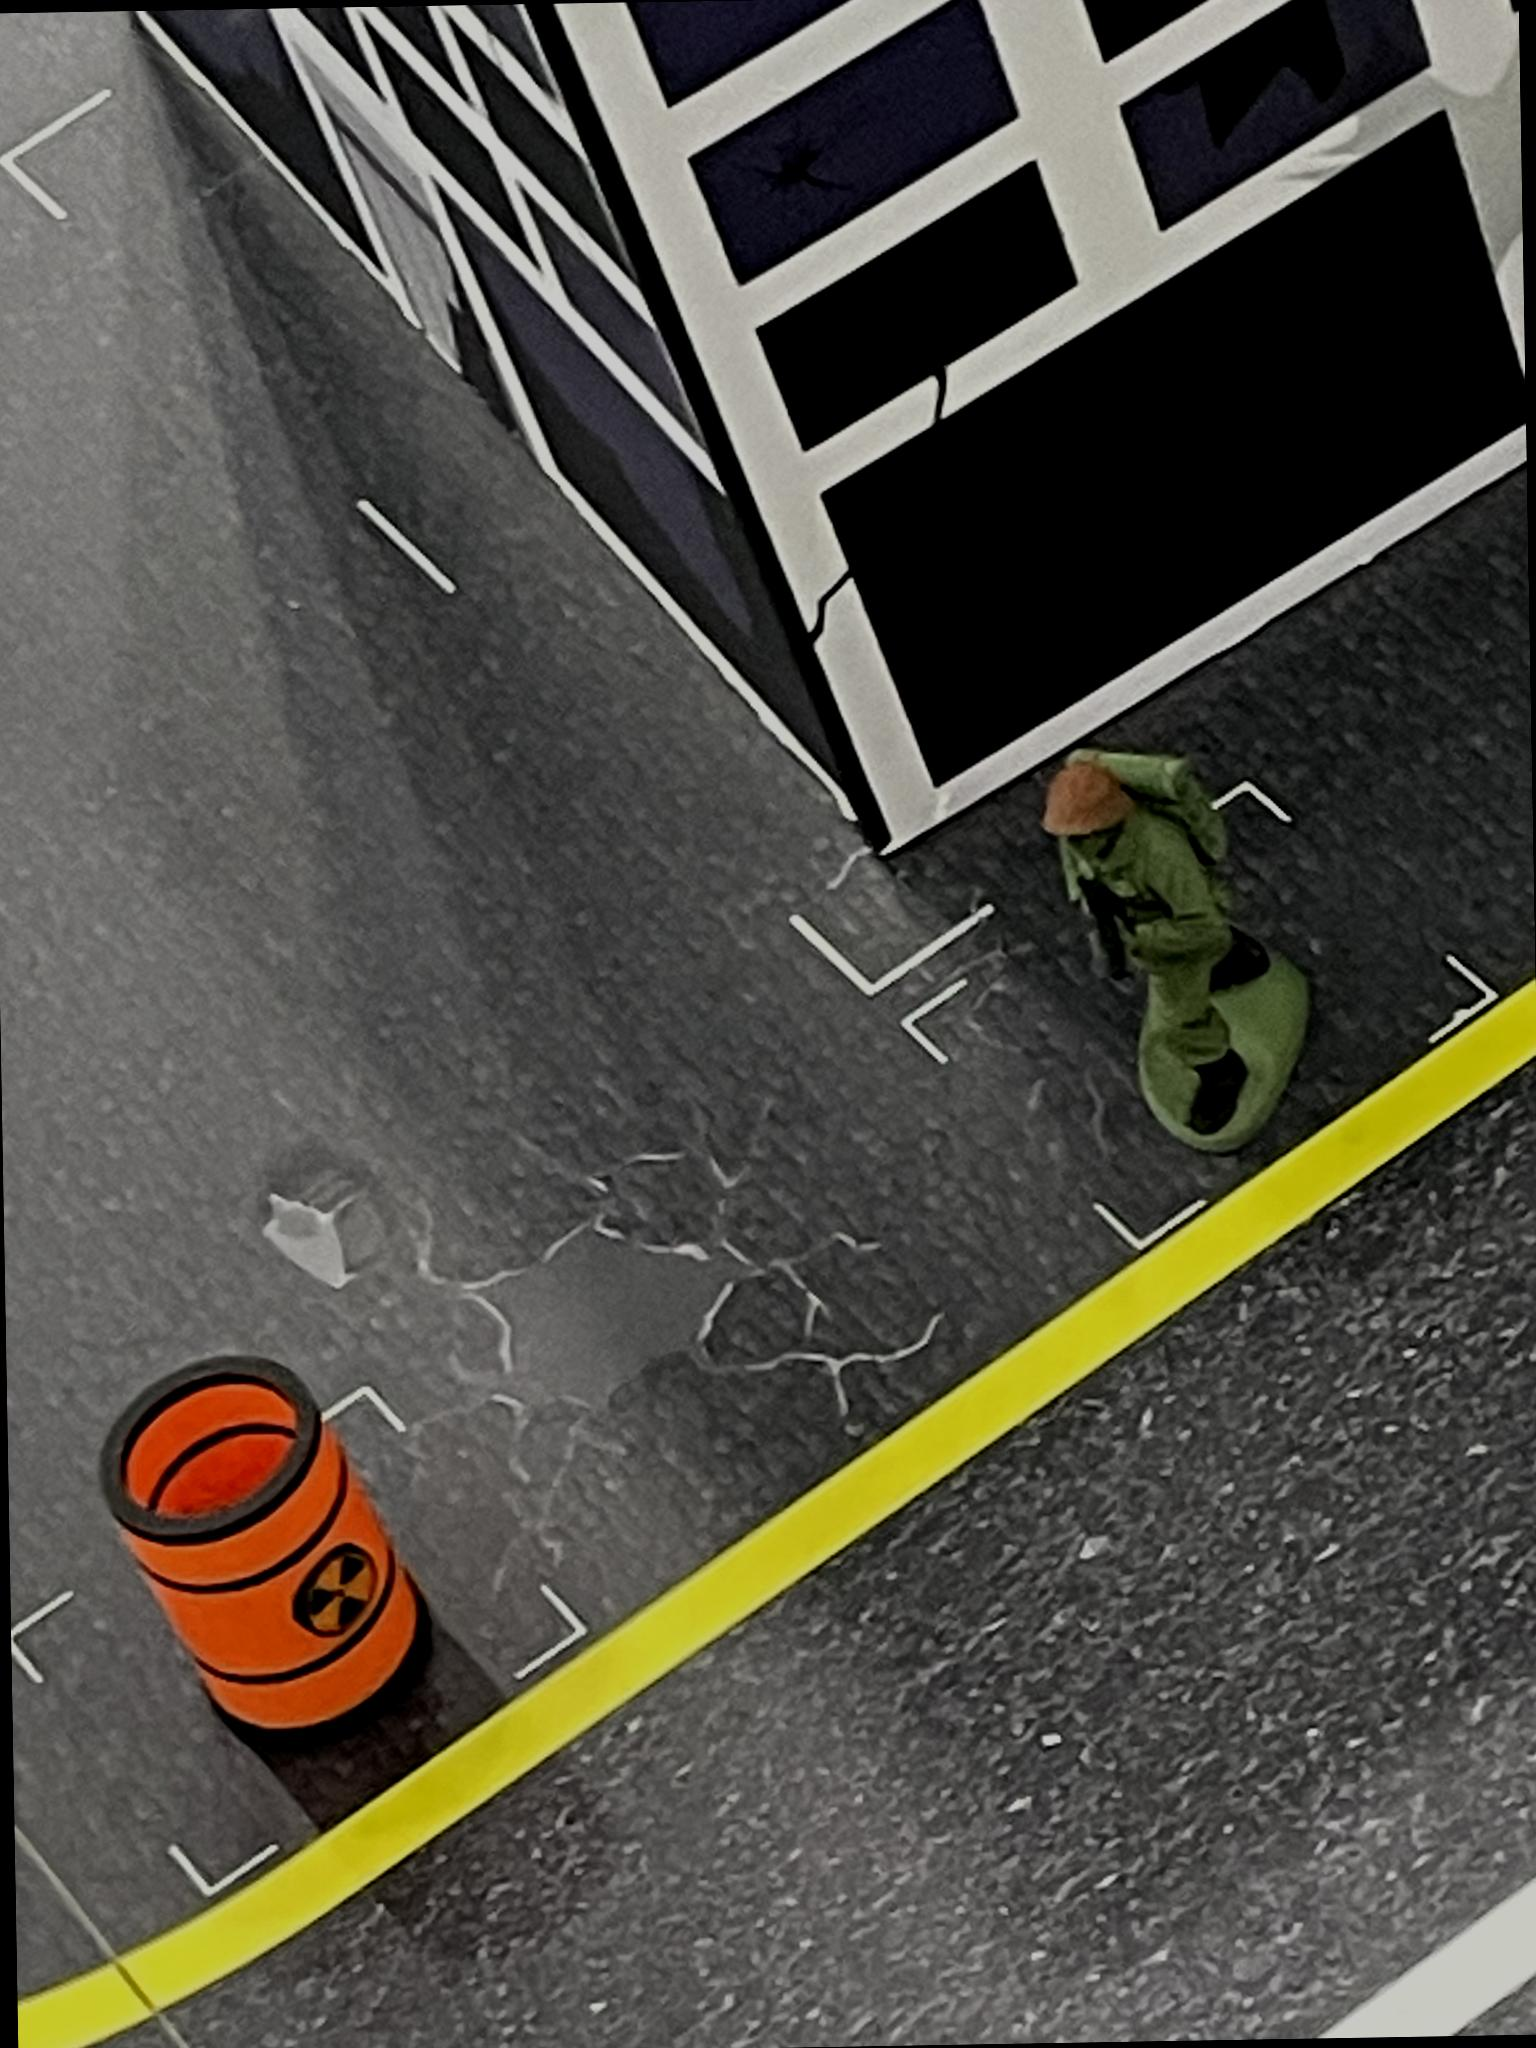Enemy: (1031, 737, 1333, 1187)
Hazmat: (100, 1338, 439, 1759)
